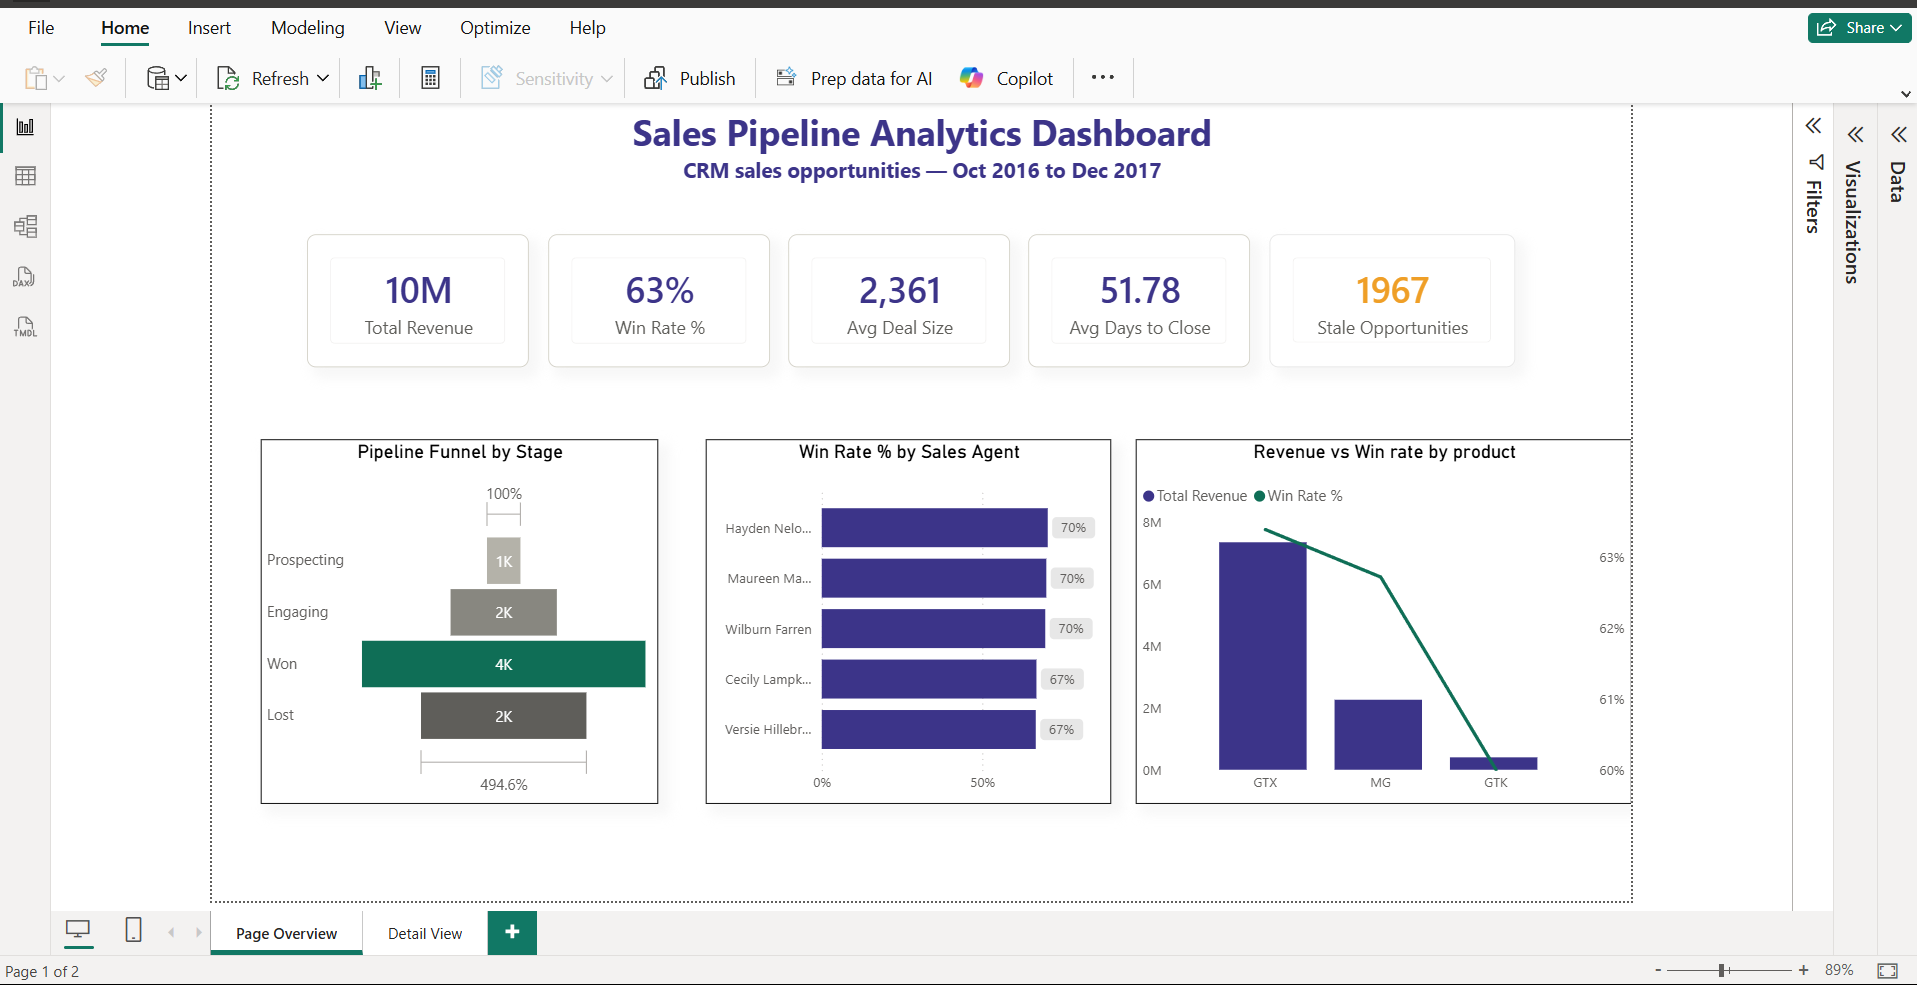

Layout of this report page (visuals, bound fields, positions):
{"tool":"powerbi","page":{"name":"Page Overview","canvas":[1280,720],"ordinal":0},"visuals":[{"type":"cardVisual","fields":{"Data":["_Measures.Avg Deal Size"]},"box":[519.7,118.4,200,120],"z":0},{"type":"cardVisual","fields":{"Data":["_Measures.Win Rate %"]},"box":[302.9,118.4,200,120],"z":1000},{"type":"cardVisual","fields":{"Data":["_Measures.Stale Opportunities Count"]},"box":[953.8,118.6,221.3,119.8],"z":2000},{"type":"cardVisual","fields":{"Data":["_Measures.Total Revenue"]},"box":[86.1,118.4,200,120],"z":3000},{"type":"cardVisual","fields":{"Data":["_Measures.Avg Days to Close"]},"box":[736.5,118.4,200,120],"z":4000},{"type":"textbox","box":[314.1,0,651.8,92.9],"z":5000},{"type":"funnel","title":"Pipeline Funnel by Stage","fields":{"Category":["sales_pipeline FILE.deal_stage"],"Y":["_Measures.Total Deals"]},"box":[44,303.3,358.3,328.9],"z":6000},{"type":"lineStackedColumnComboChart","title":"Revenue vs Win rate by product","fields":{"Category":["products FILE.series"],"Y":["_Measures.Total Revenue"],"Y2":["_Measures.Win Rate %"]},"box":[832.7,303.3,447.6,328.9],"z":7000},{"type":"clusteredBarChart","title":"Win Rate % by sales_agent","fields":{"Category":["sales_pipeline FILE.sales_agent"],"Y":["_Measures.Win Rate %"]},"box":[445.1,303.3,365.6,328.9],"z":8000}]}

Visuals, with their boxes on the page's 1280x720 design canvas (x1, y1, x2, y2). These are canvas units, not pixel positions in the 1917x985 screenshot, which may show the page scaled, cropped or inside an application window:
cardVisual - _Measures.Avg Deal Size: [x1=520, y1=118, x2=720, y2=238]
cardVisual - _Measures.Win Rate %: [x1=303, y1=118, x2=503, y2=238]
cardVisual - _Measures.Stale Opportunities Count: [x1=954, y1=119, x2=1175, y2=238]
cardVisual - _Measures.Total Revenue: [x1=86, y1=118, x2=286, y2=238]
cardVisual - _Measures.Avg Days to Close: [x1=736, y1=118, x2=936, y2=238]
textbox: [x1=314, y1=0, x2=966, y2=93]
"Pipeline Funnel by Stage" funnel: [x1=44, y1=303, x2=402, y2=632]
"Revenue vs Win rate by product" lineStackedColumnComboChart: [x1=833, y1=303, x2=1280, y2=632]
"Win Rate % by sales_agent" clusteredBarChart: [x1=445, y1=303, x2=811, y2=632]
